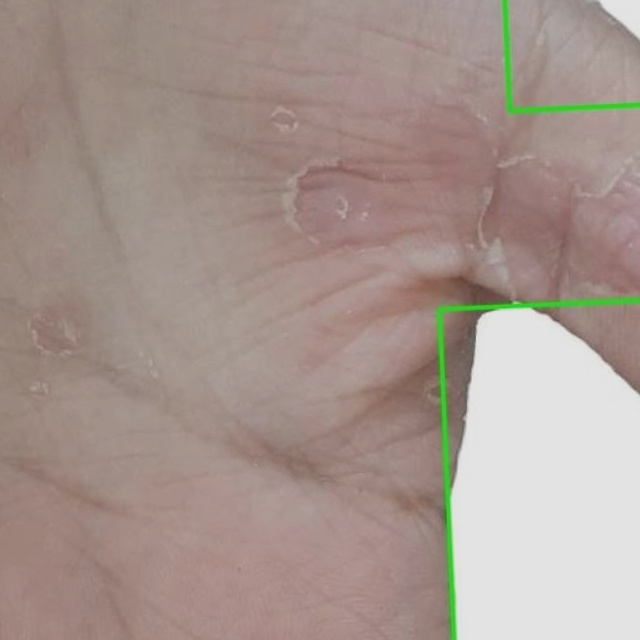Scabies: (439, 300, 639, 639)
